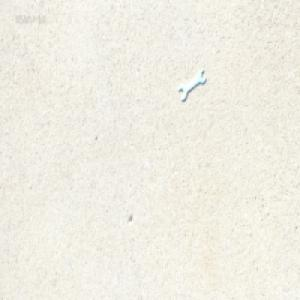Wrench: (179, 68, 205, 100)
